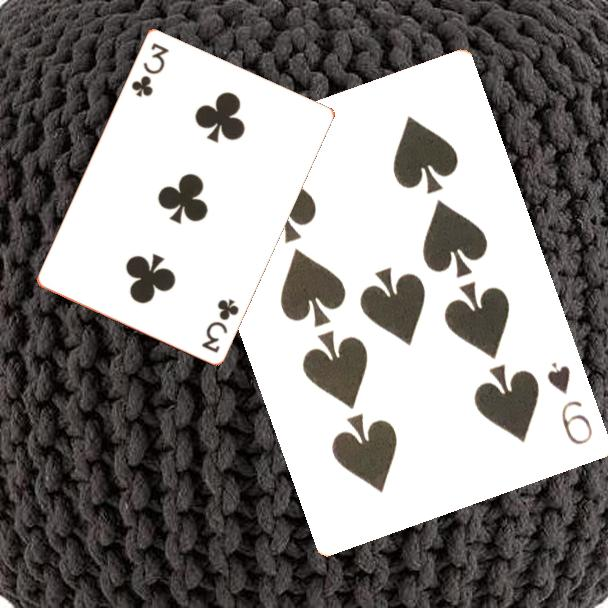c03: (128, 39, 172, 100), (198, 295, 242, 355)
s09: (544, 359, 596, 448)
